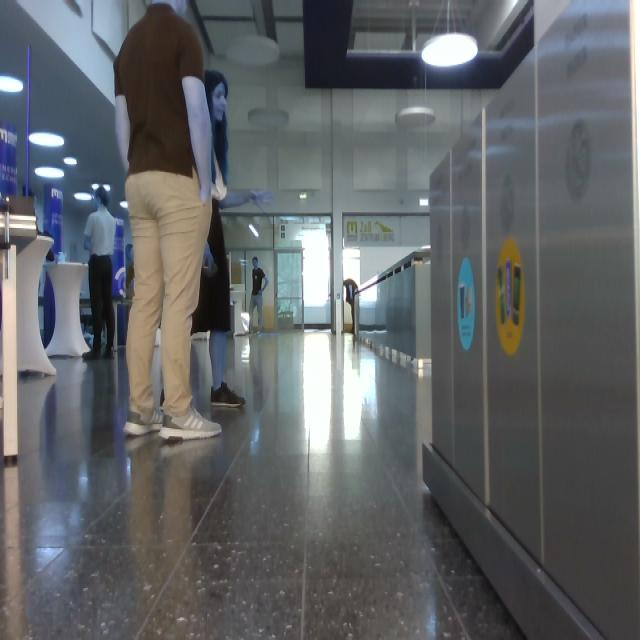light bulb: (227, 36, 279, 66), (396, 106, 435, 129), (29, 133, 64, 146), (1, 76, 24, 93), (74, 193, 93, 201), (249, 224, 258, 238), (120, 201, 127, 210)
person: (115, 1, 221, 438)
table: (47, 262, 91, 357)
tiled floor: (1, 334, 522, 640)
